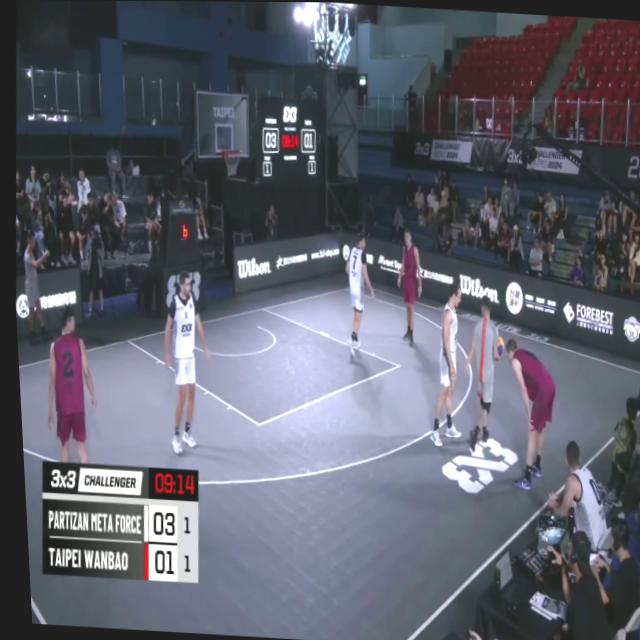ball: (484, 333, 502, 358)
hoop: (218, 142, 242, 180)
player: (152, 268, 215, 458), (37, 308, 99, 462), (417, 276, 468, 456), (496, 342, 558, 486), (336, 230, 373, 354), (394, 232, 426, 350)
